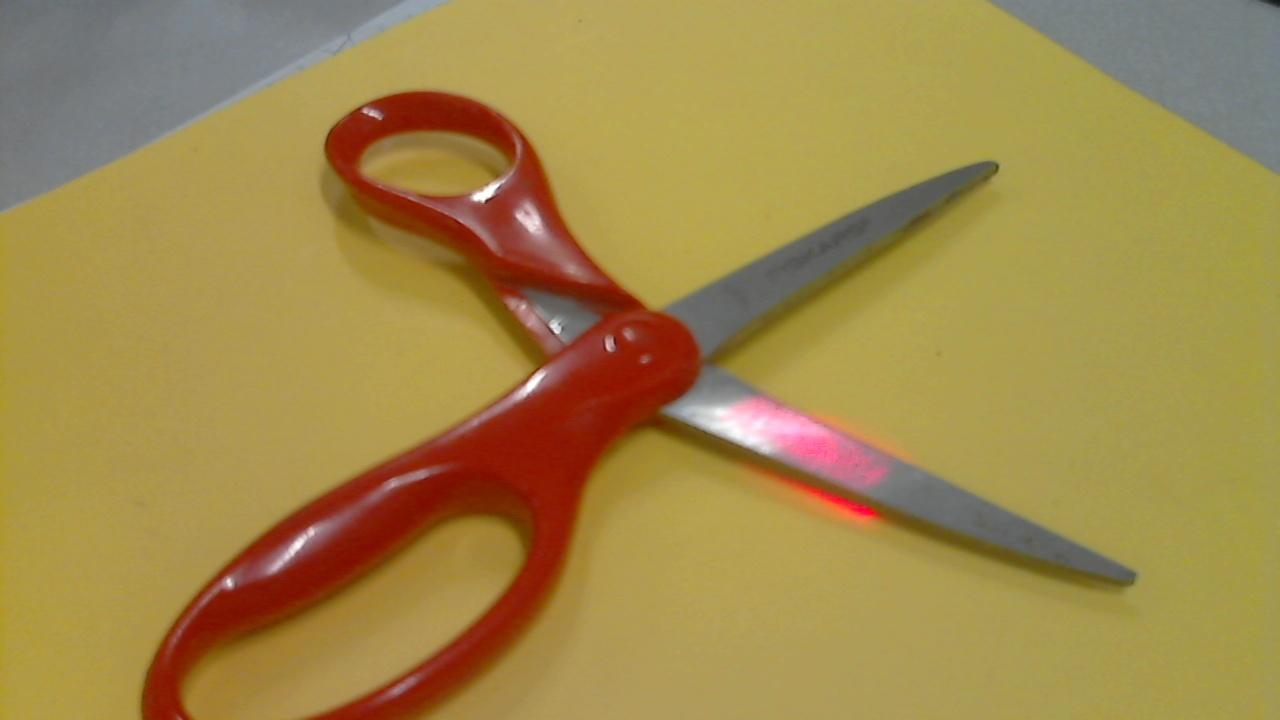Object scissors - Material plastic - Pdfname tYexGlkiIXWc: (721, 391, 905, 491)
